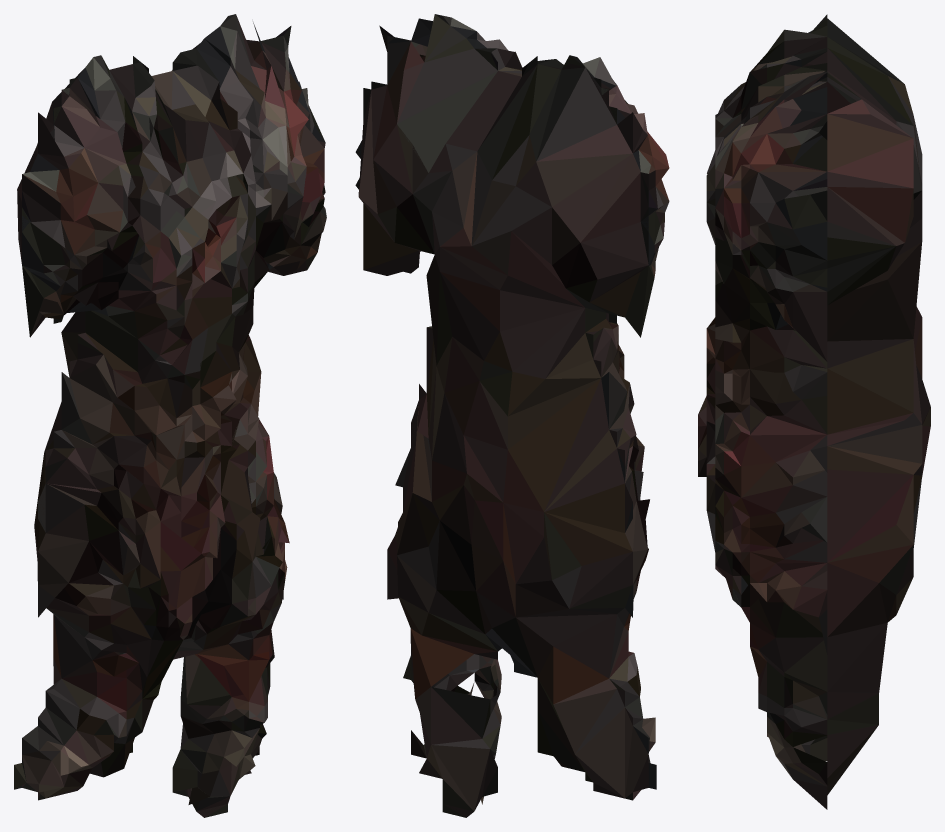
The model's file is B04_2_reaver_platelegs.obj.
3 renders of one model, left to right at view 1: azimuth 30°, elevation 25°; view 2: azimuth 150°, elevation 25°; view 3: azimuth 270°, elevation 25°, orthographic. The views are drawn at different scales.
Visible parts, largest first — view 1: B04_2_reaver_platelegs; view 2: B04_2_reaver_platelegs; view 3: B04_2_reaver_platelegs.
Boxes of the visible parts, x1,y1,x2,y2 form: B04_2_reaver_platelegs: (14,14,326,817); B04_2_reaver_platelegs: (355,14,669,817); B04_2_reaver_platelegs: (698,14,930,809).
Bounding box in the file's own units: 38 × 96 × 27.
